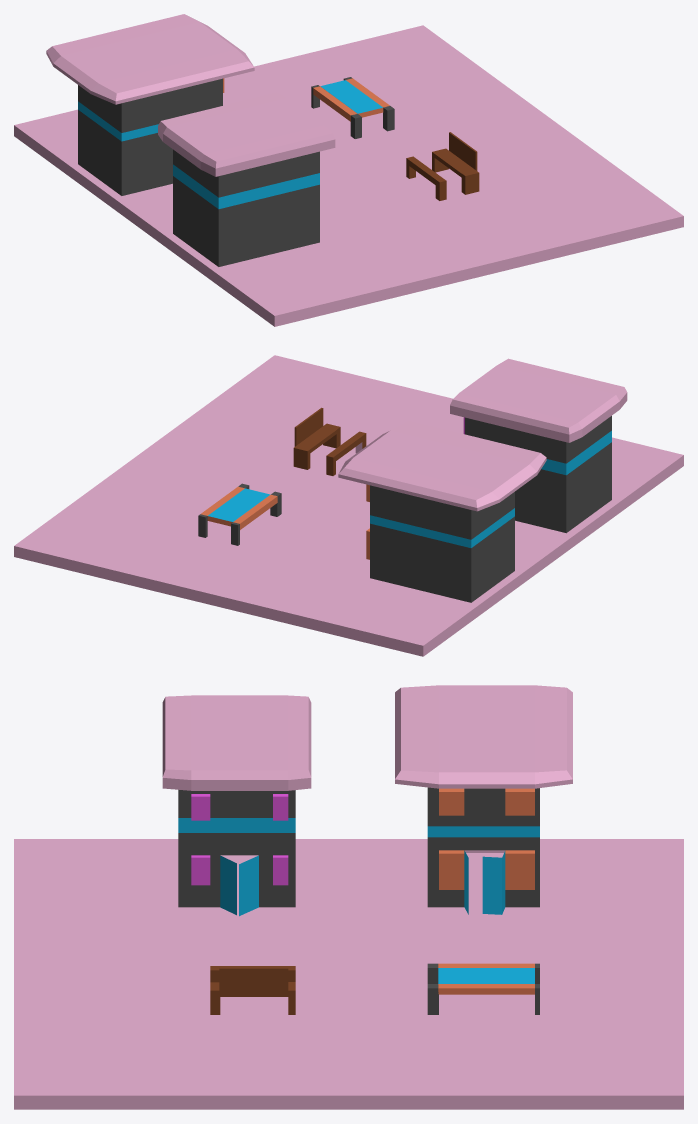
The model's file is Ice Cream Area .fbx.
The picture shows the model from 3 angles, top to bottom: view 1: azimuth 30°, elevation 25°; view 2: azimuth 150°, elevation 25°; view 3: azimuth 270°, elevation 25°; orthographic projection. The views are drawn at different scales.
Parts seen in each view (by area): view 1: Cube.005; view 2: Cube.005; view 3: Cube.005.
Part boxes in pixels (bbox=[...]): Cube.005: bbox=[14, 14, 683, 326]; Cube.005: bbox=[14, 355, 683, 656]; Cube.005: bbox=[14, 685, 683, 1109].
Size of the model in its own units: 9593 by 2683 by 10124.
